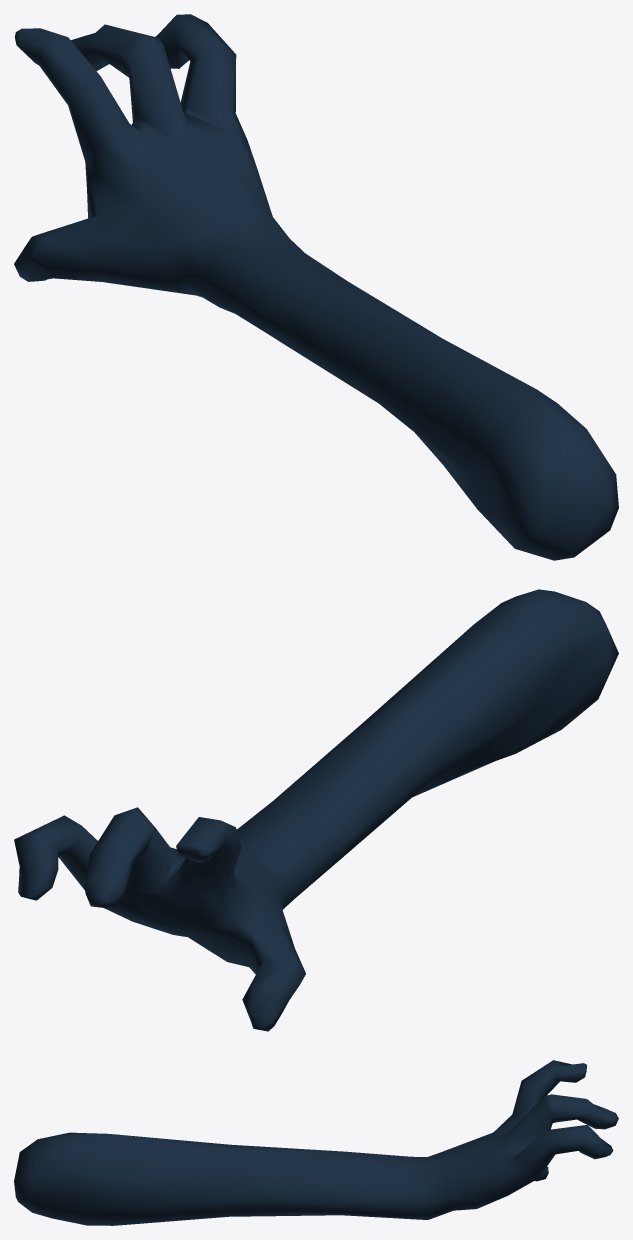
Rendered from Agent_Handheld_Blue.fbx.
3 renders of one model, top to bottom at view 1: azimuth 30°, elevation 25°; view 2: azimuth 150°, elevation 25°; view 3: azimuth 270°, elevation 25°, orthographic. The views are drawn at different scales.
Visible parts, largest first — view 1: WPN_DryHand; view 2: WPN_DryHand; view 3: WPN_DryHand.
Part boxes in pixels (x1,y1,x2,y2): WPN_DryHand: [14, 14, 618, 560]; WPN_DryHand: [14, 589, 618, 1031]; WPN_DryHand: [14, 1060, 618, 1225].
Size of the model in its own units: 0.2826 by 0.26 by 1.05.
1 material, 1 textured.
